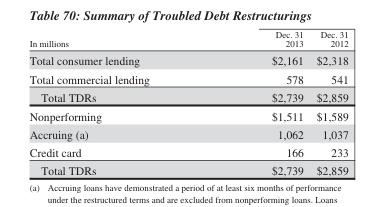table: (28, 29, 347, 176)
table column: (28, 29, 209, 176), (209, 29, 309, 176), (309, 29, 347, 176)
table column header: (28, 29, 347, 51)
table row: (28, 29, 347, 51), (28, 87, 347, 106), (28, 51, 347, 69), (28, 69, 347, 87), (28, 106, 347, 124), (28, 124, 347, 142), (28, 142, 347, 160), (28, 160, 347, 176)
